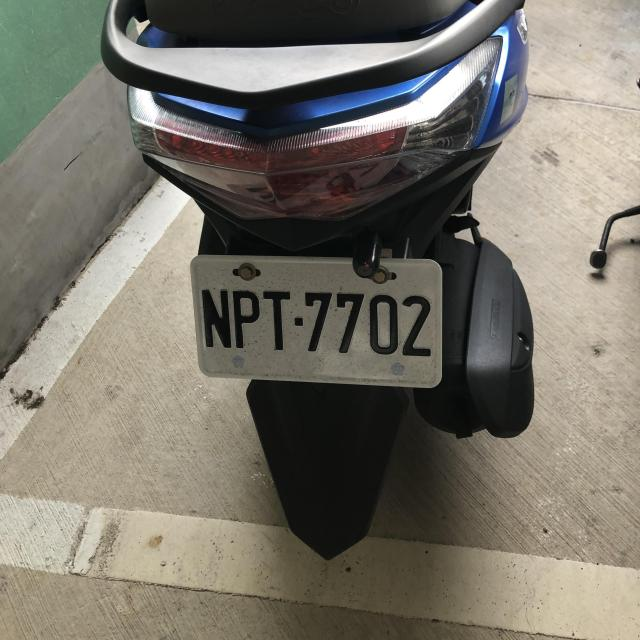W: (187, 250, 447, 388)
